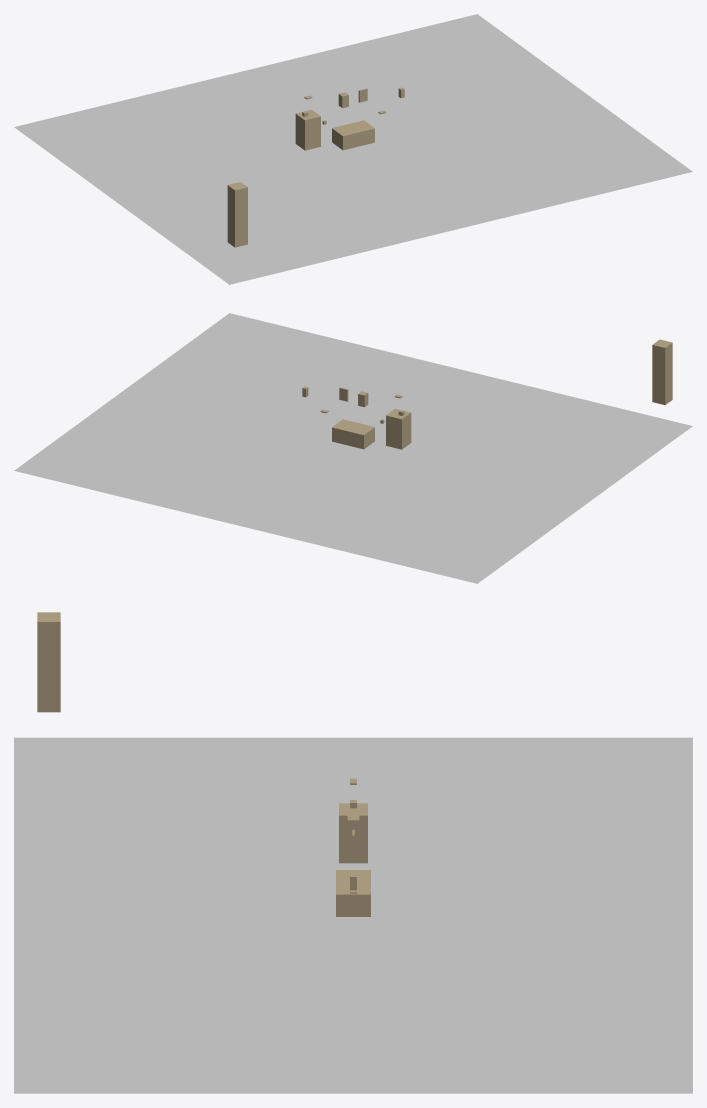
Rendered from smoke-ep-202886.obj.
3 views of the same model, one above another, from view 1: azimuth 30°, elevation 25°; view 2: azimuth 150°, elevation 25°; view 3: azimuth 270°, elevation 25° (orthographic). The views are drawn at different scales.
Visible parts, largest first — view 1: Floor, asm_lamp_floor_3, asm_table_coffee_2, asm_chair_standard_1; view 2: Floor, asm_lamp_floor_3, asm_table_coffee_2, asm_chair_standard_1; view 3: Floor, asm_lamp_floor_3, asm_table_coffee_2, asm_chair_standard_1.
Part boxes in pixels (<box>): Floor: <box>14,14,692,284</box>; asm_lamp_floor_3: <box>227,182,247,247</box>; asm_table_coffee_2: <box>332,120,374,150</box>; asm_chair_standard_1: <box>295,109,320,150</box>; Floor: <box>14,313,692,583</box>; asm_lamp_floor_3: <box>652,339,672,404</box>; asm_table_coffee_2: <box>332,419,374,449</box>; asm_chair_standard_1: <box>386,408,411,449</box>; Floor: <box>14,737,692,1093</box>; asm_lamp_floor_3: <box>37,612,60,712</box>; asm_table_coffee_2: <box>336,870,370,916</box>; asm_chair_standard_1: <box>339,803,367,863</box>.
Bounding box in the file's own units: 7.2 × 1.27 × 5.8.
